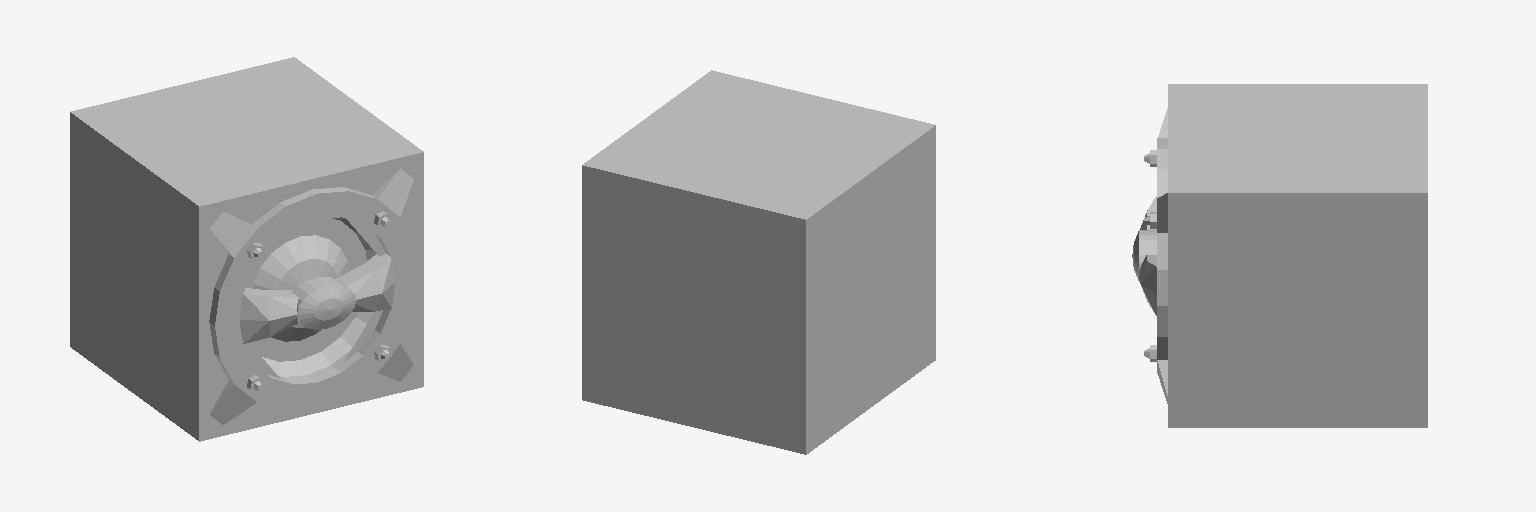
Rendered from Fit_YinXiang_2.obj.
The picture shows the model from 3 angles: view 1: azimuth 30°, elevation 25°; view 2: azimuth 150°, elevation 25°; view 3: azimuth 270°, elevation 25°; orthographic projection.
Parts seen in each view (by area): view 1: Box005; view 2: Box005; view 3: Box005.
Boxes of the visible parts, <box> form: Box005: <box>70,57,423,441</box>; Box005: <box>582,70,935,454</box>; Box005: <box>1132,84,1427,427</box>.
Bounding box in the file's own units: 1 × 1 × 1.14.